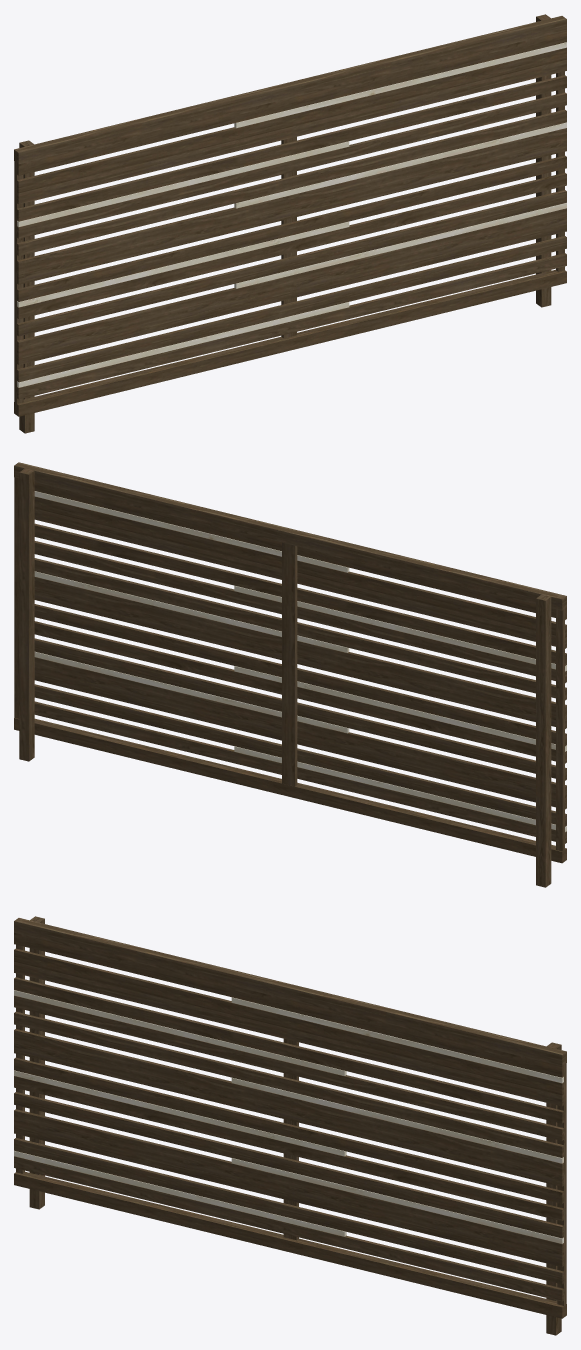
File: everartfencekorabo_920-1998_brownebony-whitepine.fbx
The picture shows the model from 3 angles, top to bottom: view 1: azimuth 30°, elevation 25°; view 2: azimuth 150°, elevation 25°; view 3: azimuth 330°, elevation 25°; orthographic projection.
Visible parts, largest first — view 1: everartfencekorabo_920-1998_brownebony-whitepine; view 2: everartfencekorabo_920-1998_brownebony-whitepine; view 3: everartfencekorabo_920-1998_brownebony-whitepine.
Part boxes in pixels (x1,y1,x2,y2): everartfencekorabo_920-1998_brownebony-whitepine: (14,14,566,433); everartfencekorabo_920-1998_brownebony-whitepine: (14,462,566,887); everartfencekorabo_920-1998_brownebony-whitepine: (14,916,566,1335).
Bounding box in the file's own units: 200 × 100 × 6.5.
2 materials, 2 textured.
